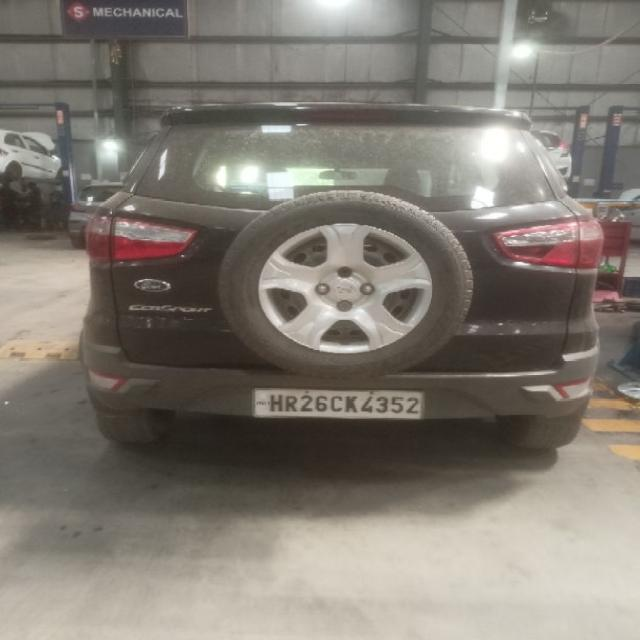license_plate: (250, 386, 426, 419)
